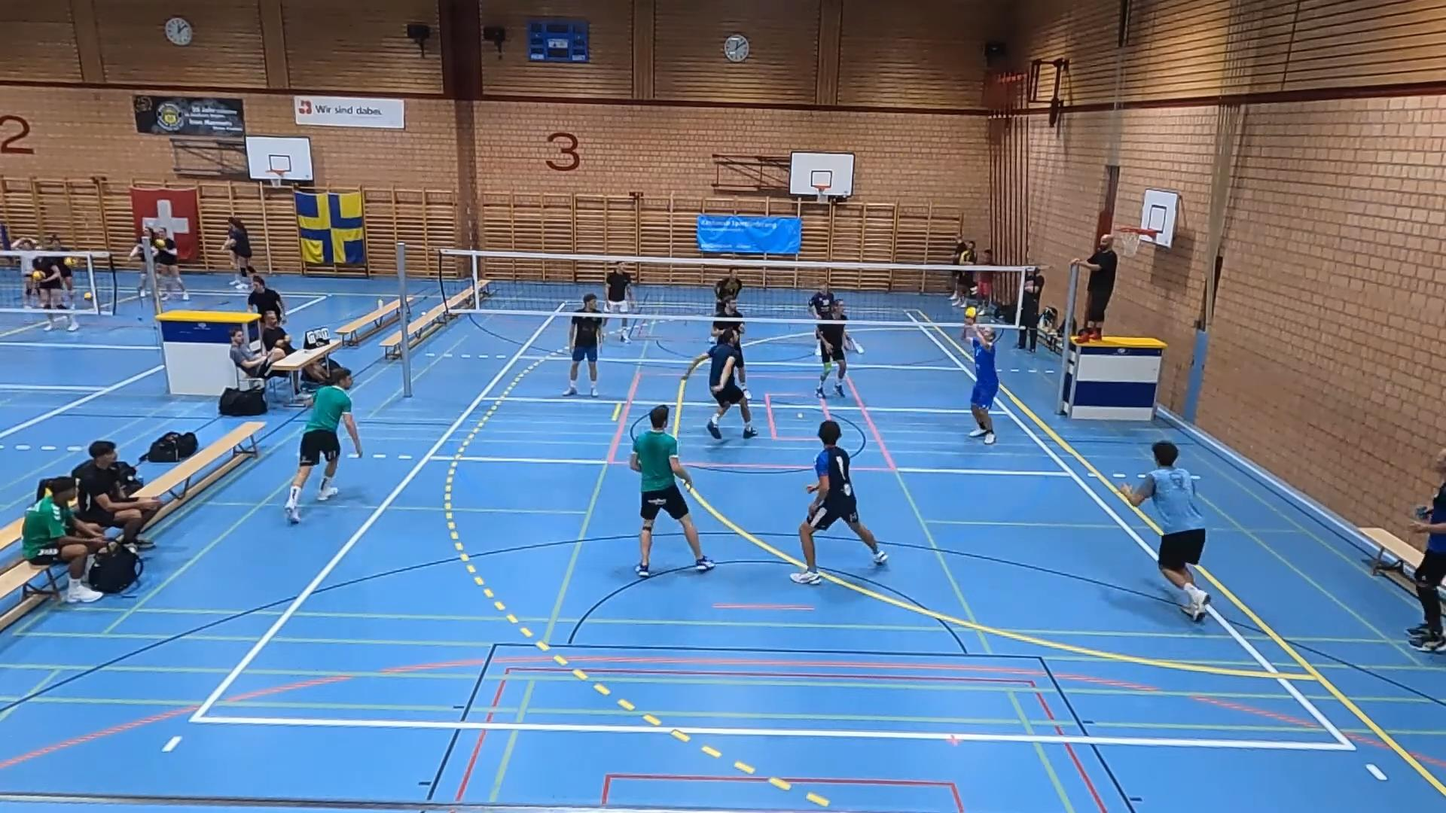Player: (1120, 441, 1210, 621), (790, 421, 887, 584), (630, 405, 714, 577), (285, 367, 362, 523), (694, 329, 756, 438), (563, 293, 604, 397), (816, 300, 847, 397), (605, 263, 636, 343), (808, 279, 835, 319), (715, 268, 743, 306)
Set: (960, 320, 1001, 449), (708, 301, 754, 405)
ball: (961, 306, 978, 321)
